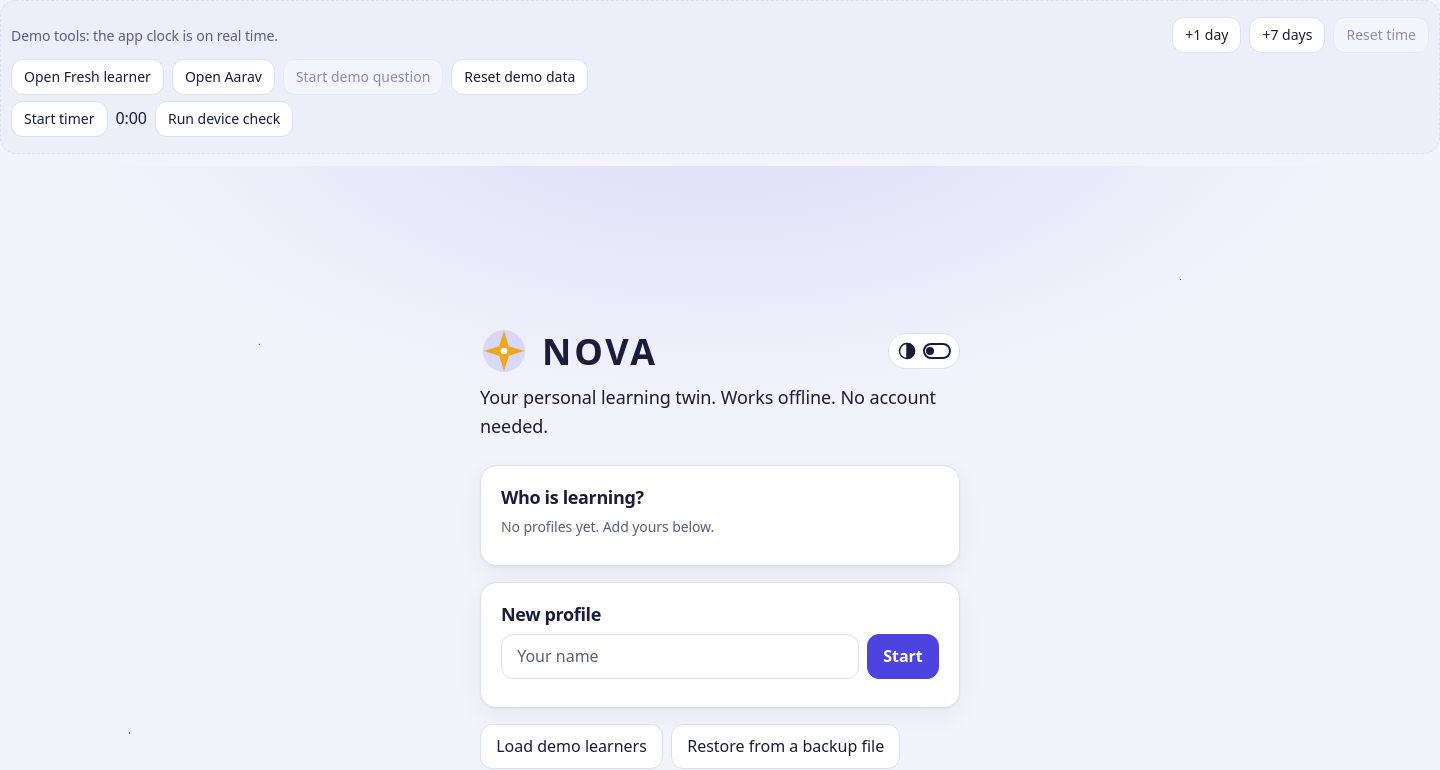
Test: rehearsal timer › keeps running when the screen changes (switching profile must not reset it)
Check: the element "Demo tools" is shown, box [0,0,1439,154]
Click the button "Start timer": click(59, 119) [11,101,108,137]
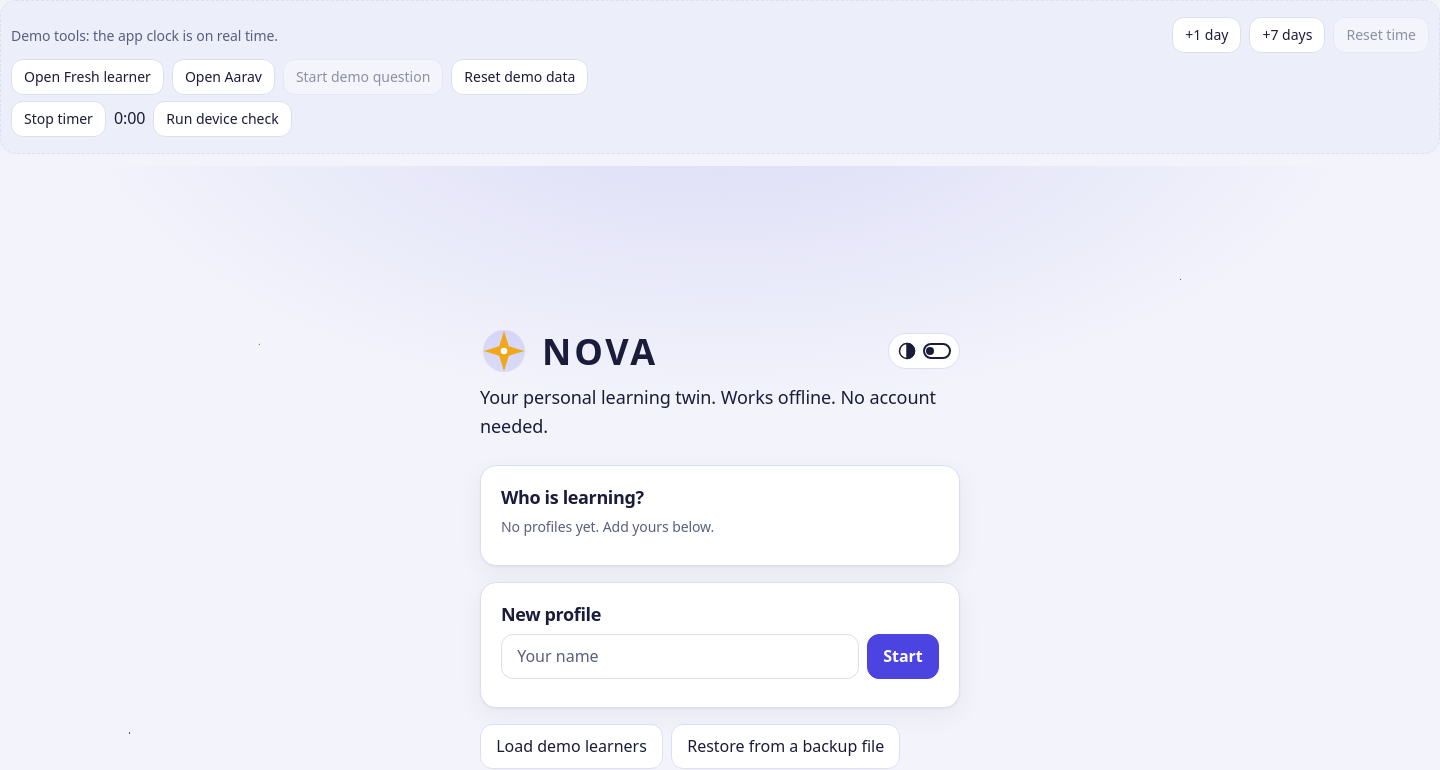
Click the button "Open Fresh learner": click(87, 77) [11,59,164,95]
(page scrolled)
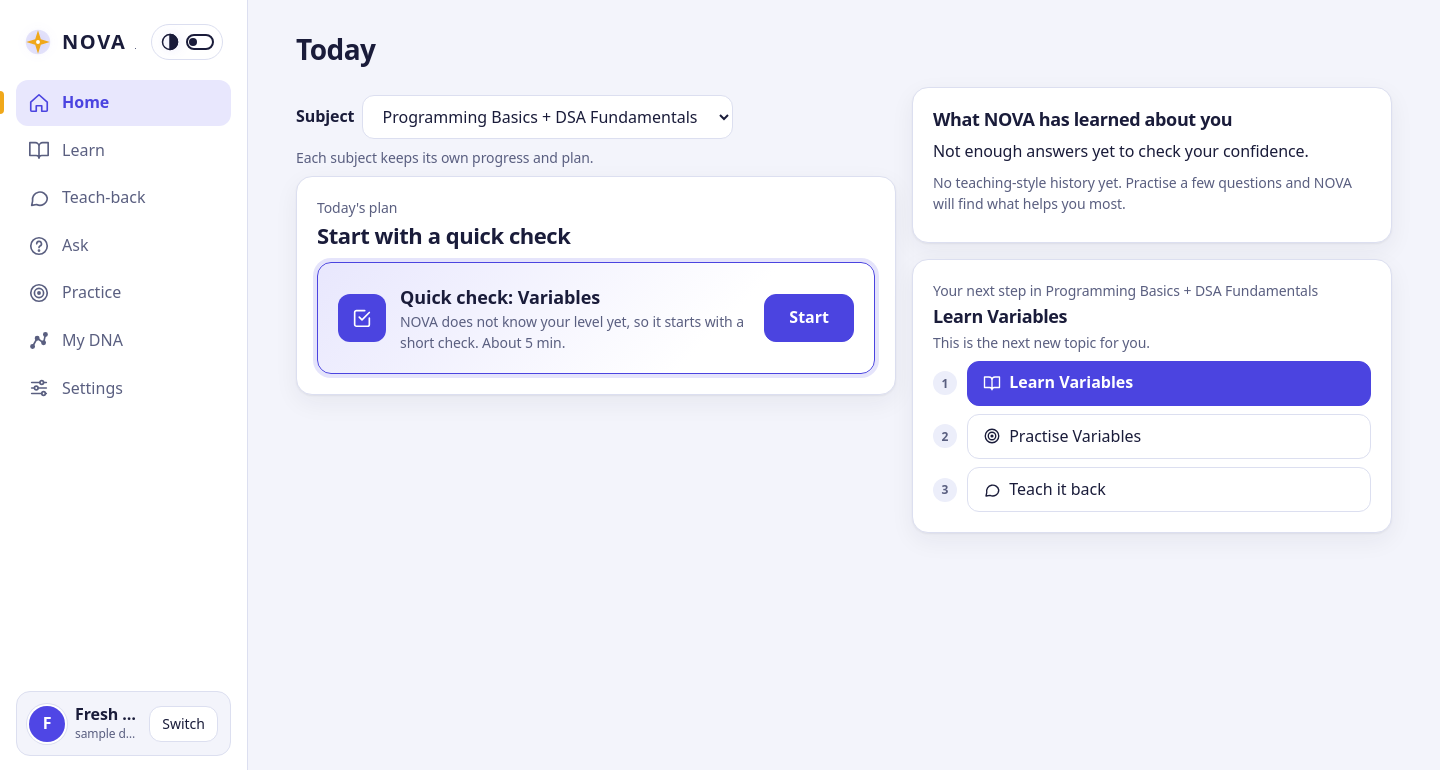
Click the button "Switch": click(184, 724) [149,706,218,742]
Wait 600 ms
(page scrolled)
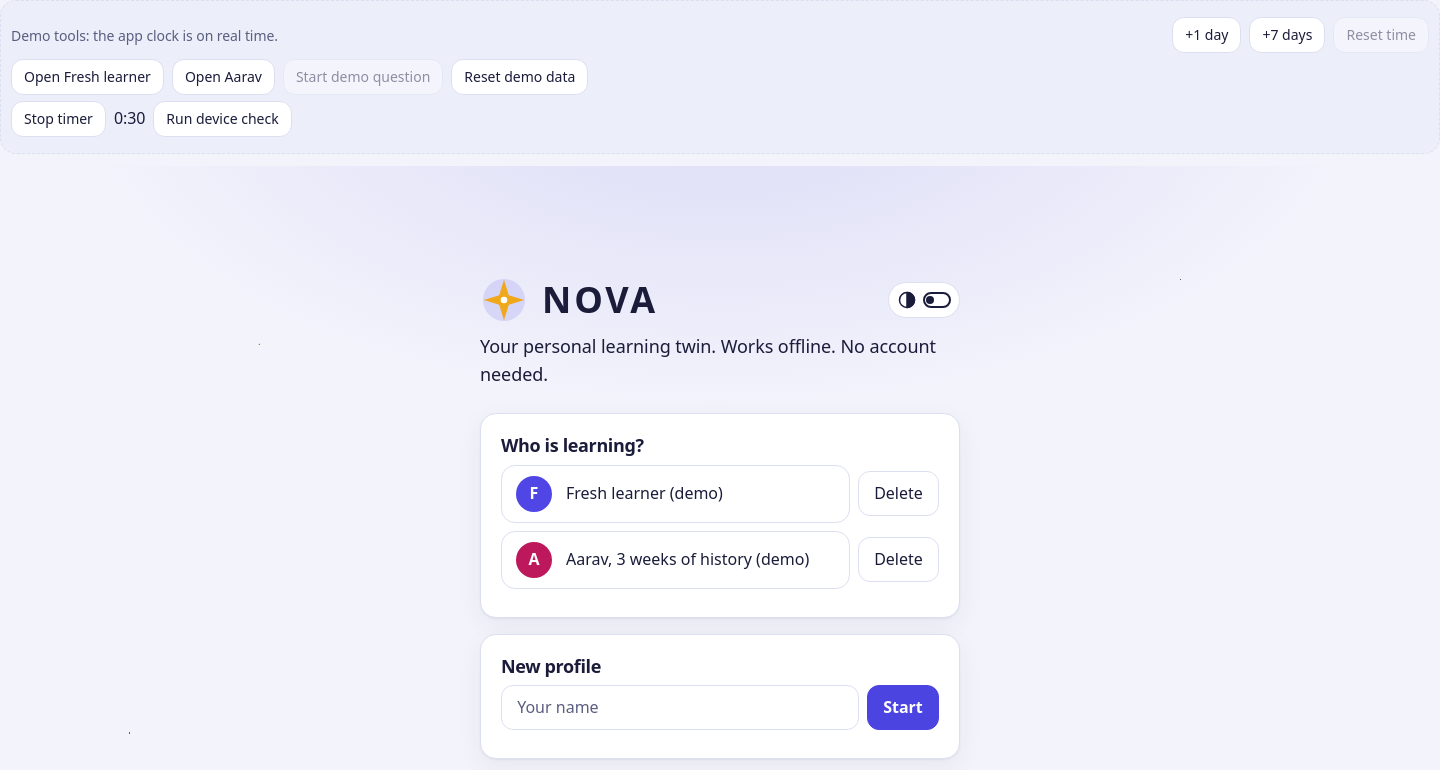
Check: the heading "Who is learning?" is shown, box [501,433,644,457]
Check: the text named "Rehearsal timer" reads "0:30", box [114,107,145,129]
